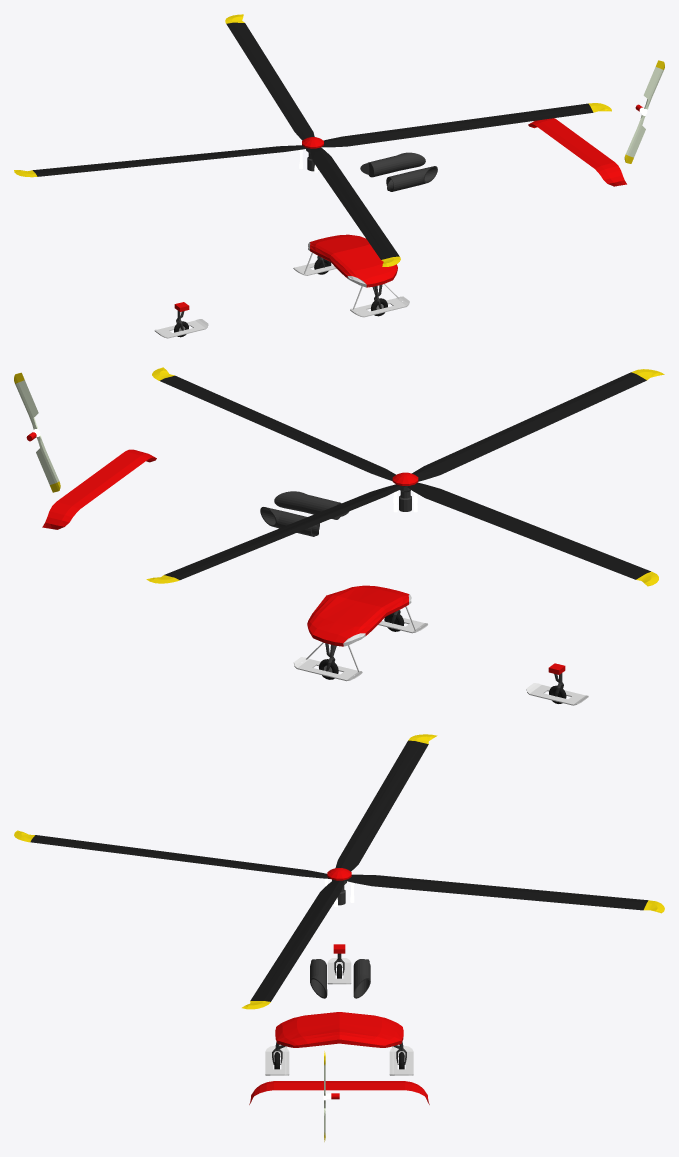
File: scence.gltf
The picture shows the model from 3 angles, top to bottom: view 1: azimuth 30°, elevation 25°; view 2: azimuth 150°, elevation 25°; view 3: azimuth 270°, elevation 25°; orthographic projection. The views are drawn at different scales.
Parts seen in each view (by area): view 1: Cylinder.003, Cube.004, Cube.001, Cylinder, Cylinder.002, Cube.007; view 2: Cylinder.003, Cube.004, Cube.001, Cylinder, Cylinder.002, Cube.007, Cube.006, Cylinder.001; view 3: Cylinder.003, Cube.004, Cube.001, Cylinder, Cube.007.
Boxes of the visible parts, box(x1,y1,x2,y2) form: Cylinder.003: box(14, 14, 611, 266); Cube.004: box(308, 234, 397, 287); Cube.001: box(528, 118, 626, 186); Cylinder: box(360, 152, 437, 191); Cylinder.002: box(624, 60, 664, 163); Cube.007: box(293, 262, 409, 317); Cylinder.003: box(146, 367, 664, 586); Cube.004: box(307, 585, 411, 646); Cube.001: box(42, 449, 156, 529); Cylinder: box(260, 491, 349, 536); Cylinder.002: box(14, 372, 60, 492); Cube.007: box(294, 618, 427, 681); Cube.006: box(526, 683, 588, 705); Cylinder.001: box(392, 472, 418, 511); Cylinder.003: box(14, 734, 664, 1009); Cube.004: box(275, 1012, 403, 1047); Cube.001: box(249, 1081, 429, 1104); Cylinder: box(310, 959, 370, 998); Cube.007: box(265, 1045, 413, 1075).
Size of what is drawn, in the model's own units: 10 by 2.65 by 8.54.
